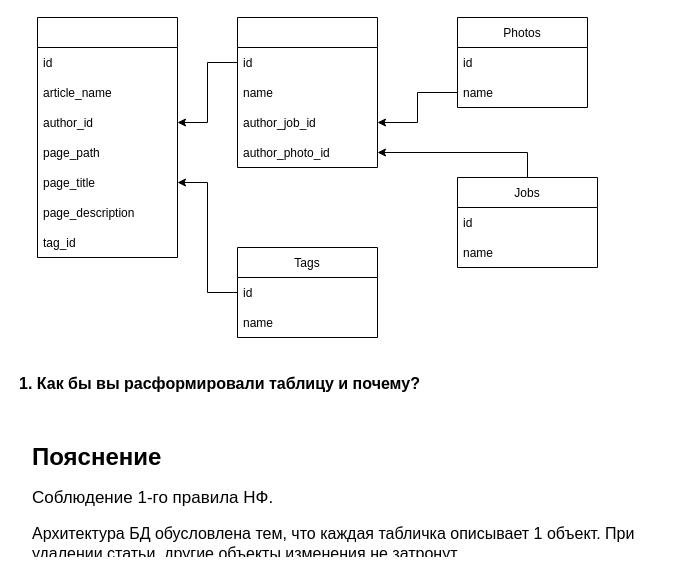
Some shapes in this 674 by 578 pixel diagram are drawn without their labels. The shapes that lost their labels are listed below. From the top down, each one's box as (x1, y1, x2, y2) in pixels, then its label:
(236, 16, 378, 168): Authors
(36, 16, 178, 258): Articles
